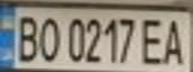0: (63, 14, 84, 63)
1: (103, 15, 121, 64)
2: (84, 13, 103, 64)
7: (118, 13, 139, 64)
A: (160, 15, 190, 66)
B: (9, 11, 42, 63)
E: (139, 15, 169, 65)
O: (36, 12, 63, 63)
